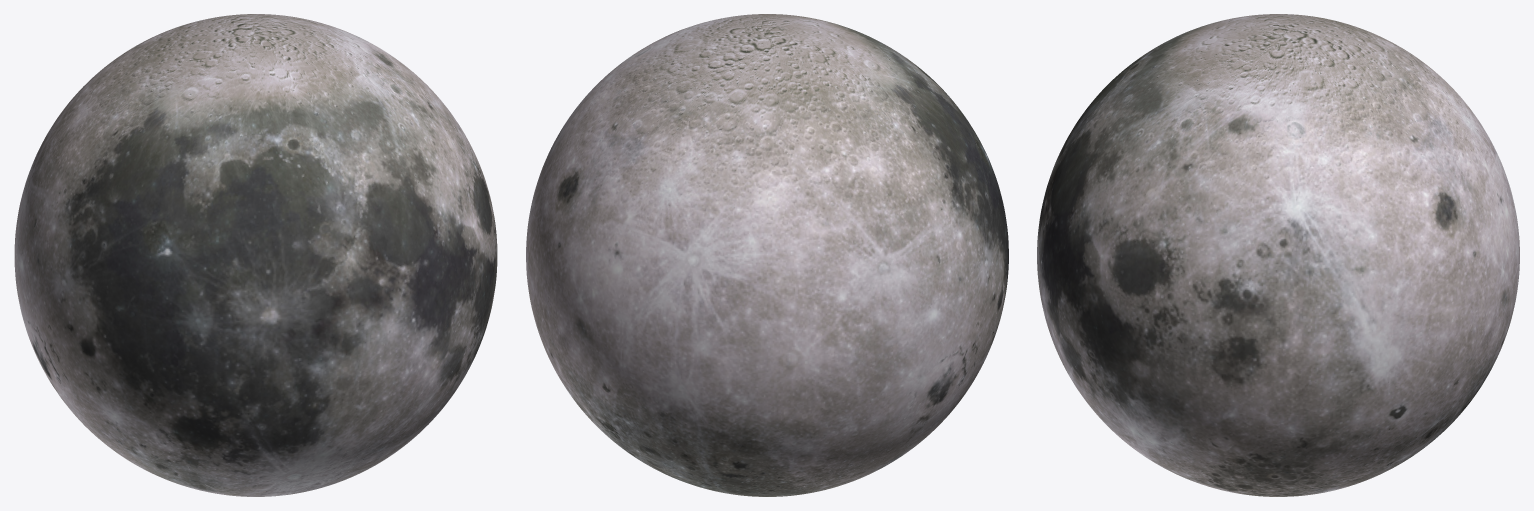
File: the_moon.glb
3 views of the same model, side by side, from view 1: azimuth 30°, elevation 25°; view 2: azimuth 150°, elevation 25°; view 3: azimuth 270°, elevation 25° (orthographic).
Parts seen in each view (by area): view 1: Object_2; view 2: Object_2; view 3: Object_2.
Boxes of the visible parts, box(x1,y1,x2,y2) form: Object_2: box(14, 14, 497, 496); Object_2: box(526, 14, 1008, 496); Object_2: box(1037, 14, 1519, 496).
Bounding box in the file's own units: 2 × 2 × 2.
Materials: 1 (1 with a texture image).
